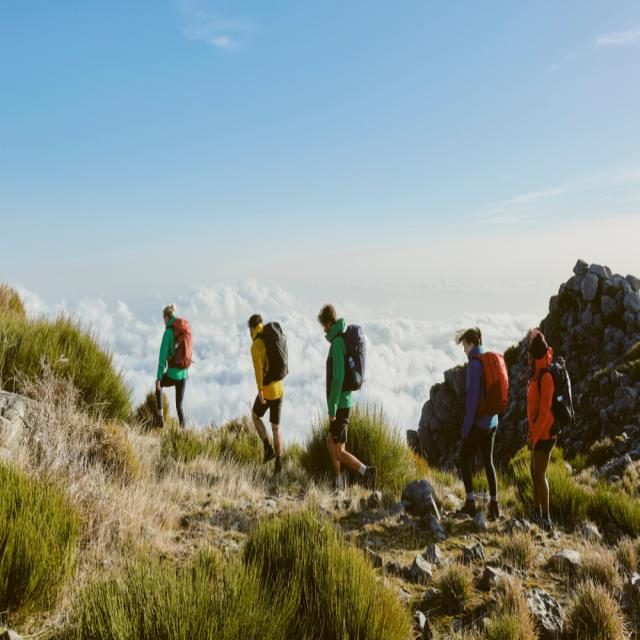backpack: (537, 356, 576, 437), (471, 352, 510, 417), (332, 325, 367, 392), (256, 322, 289, 384), (167, 319, 194, 371)
